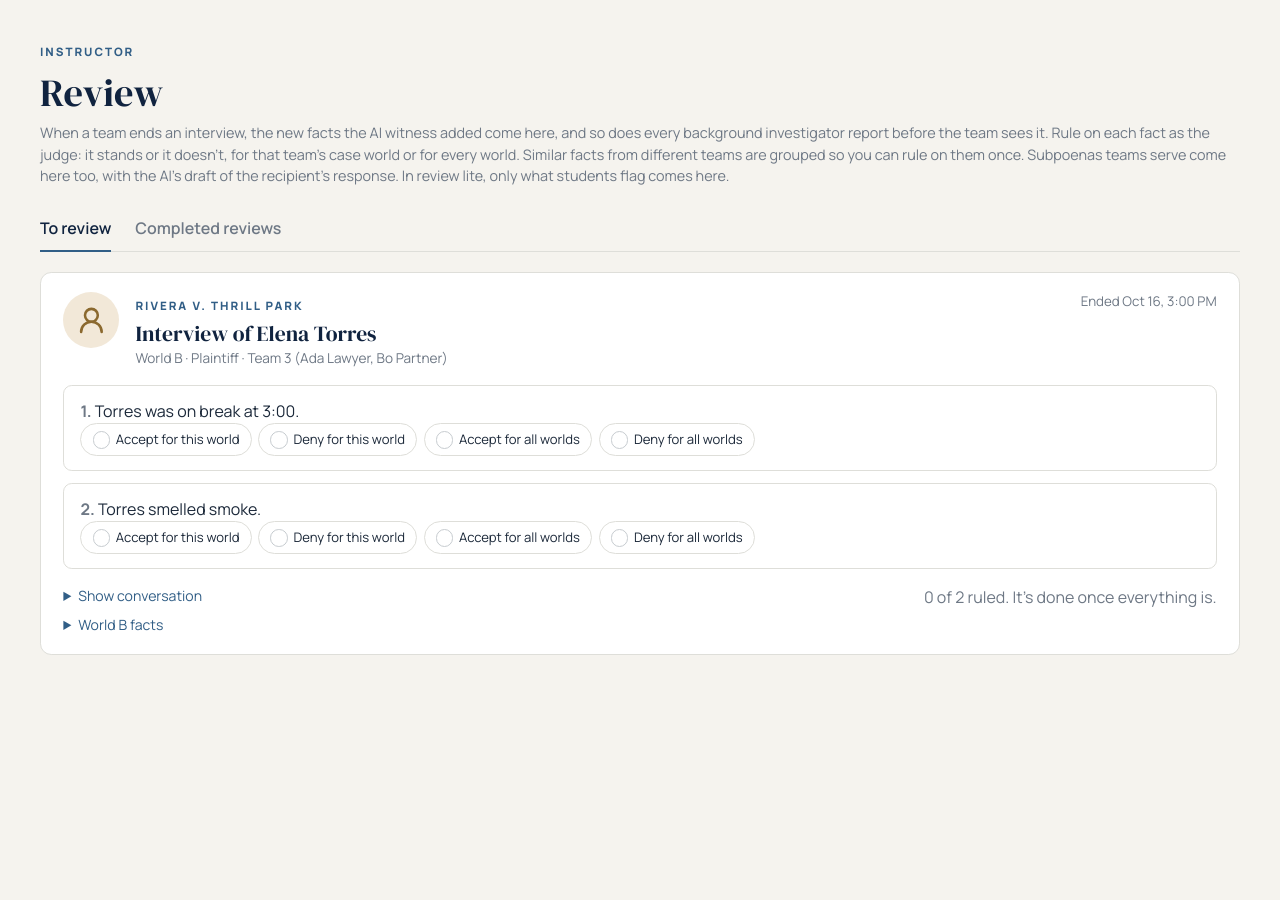
Scenario: ReviewPage › opens the facts of the review’s world on request
This screenshot has width=1280, height=900.
Click the heading "World B facts" at (121, 625), box [78,615,163,634]
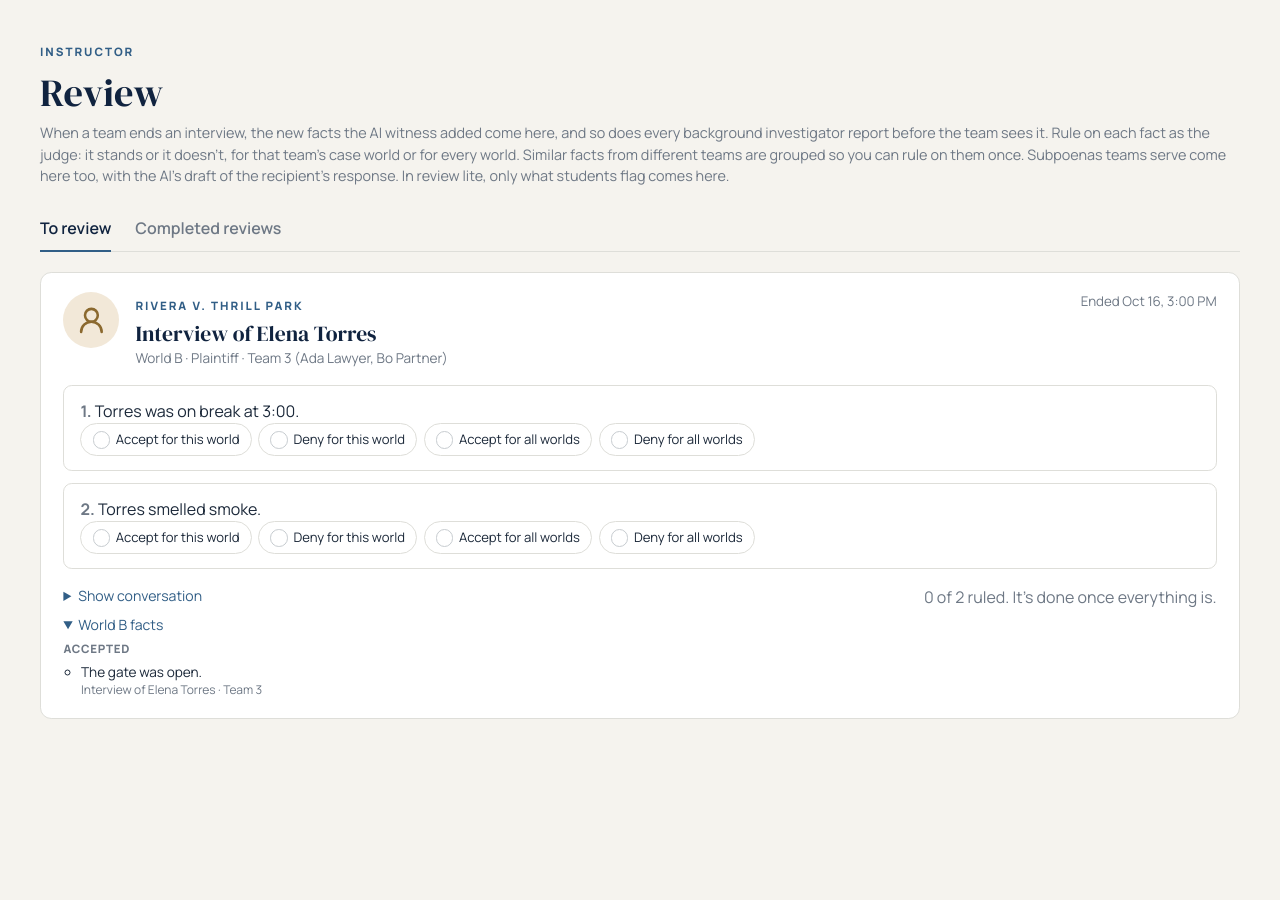
Now the list item "The gate was open." is shown, box [81,663,202,681]
